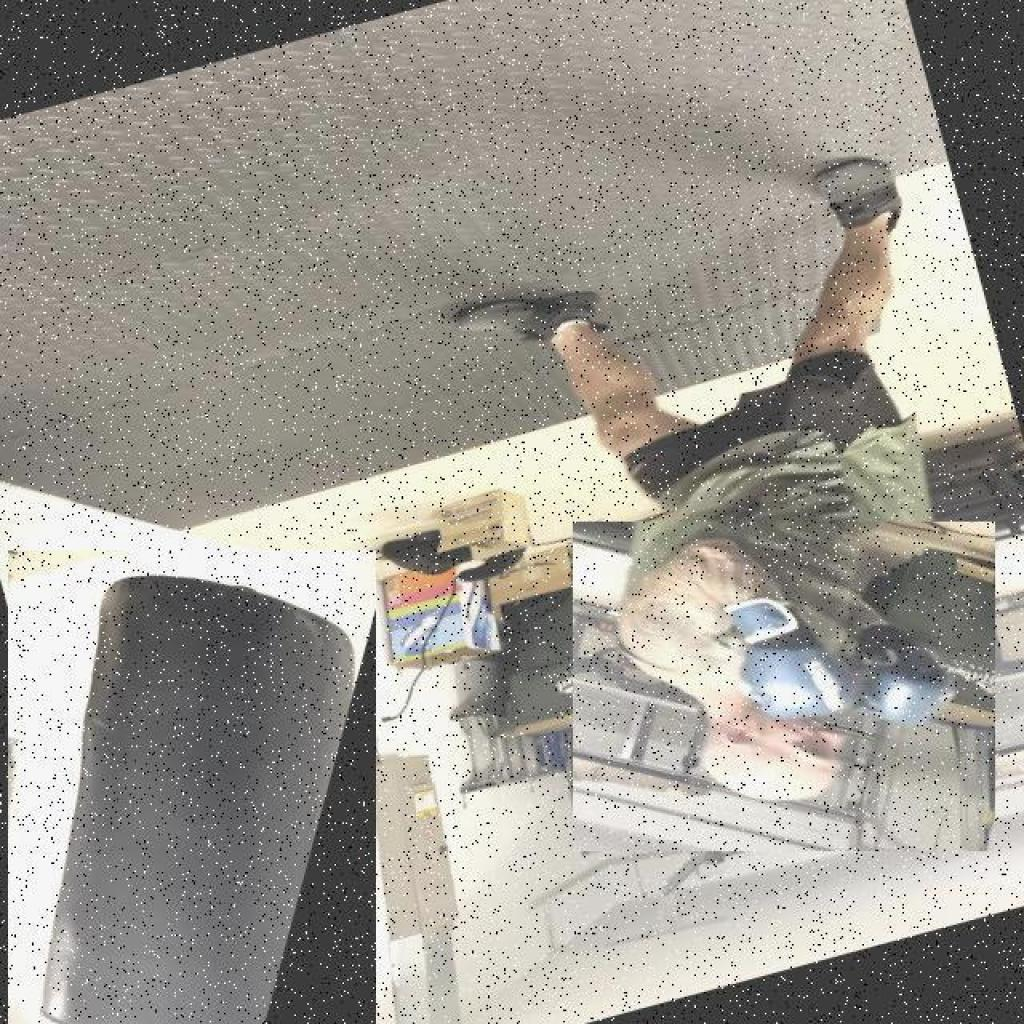bag: (8, 550, 376, 1024)
no punch: (573, 522, 996, 851)
